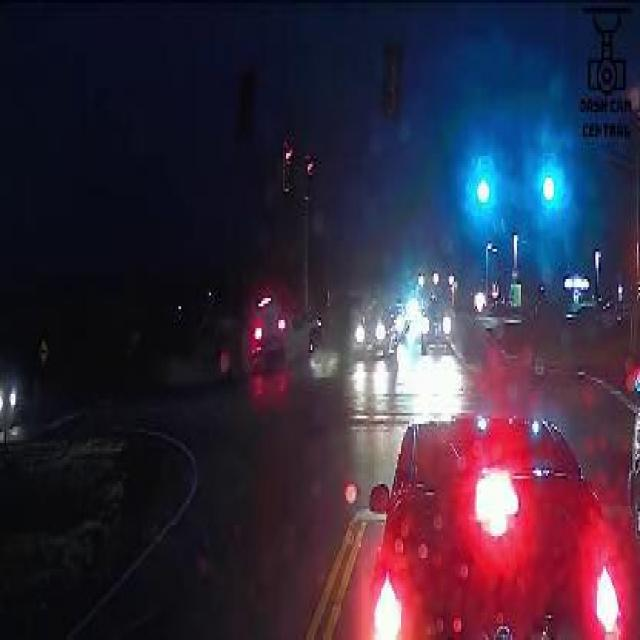accident: (245, 282, 326, 377)
